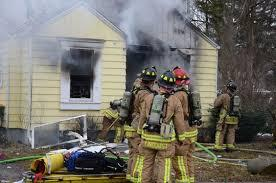smoke: (4, 2, 183, 34)
